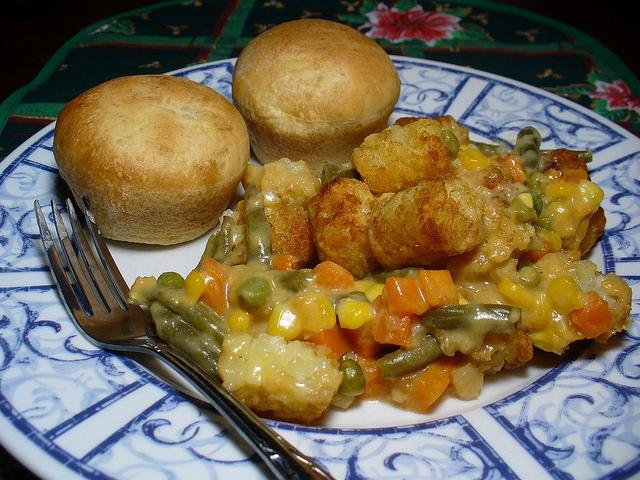carrot: (347, 294, 383, 362), (405, 362, 450, 412), (569, 290, 612, 338), (302, 319, 351, 361), (197, 256, 230, 316), (374, 308, 419, 348), (416, 270, 459, 310), (386, 277, 429, 315), (356, 356, 392, 401), (312, 260, 354, 290), (522, 238, 553, 263), (502, 155, 528, 184), (271, 254, 299, 270)
pea: (237, 276, 271, 310), (338, 358, 366, 396), (519, 190, 543, 218), (525, 171, 551, 194), (442, 130, 459, 157), (158, 272, 185, 288), (518, 266, 540, 285)
potato: (217, 328, 344, 428), (368, 177, 487, 274), (352, 118, 460, 198), (310, 176, 380, 282), (264, 198, 318, 270), (474, 328, 534, 376), (578, 206, 606, 257), (550, 148, 587, 172)
